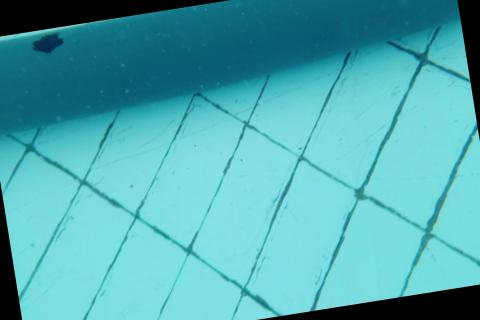kebocoran: (30, 30, 66, 57)
